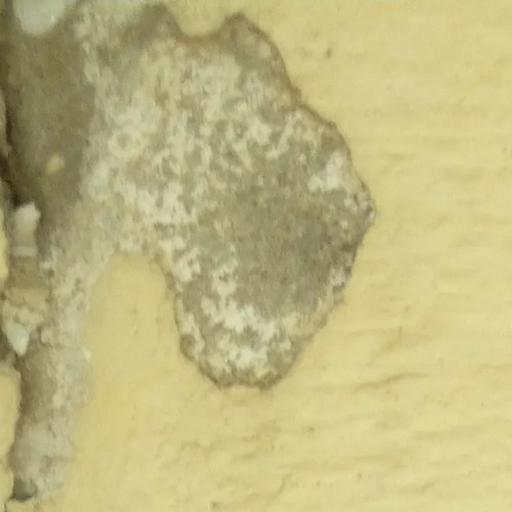peeling: (0, 0, 388, 507)
